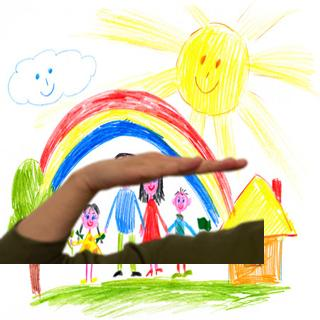WAIT: (79, 149, 253, 190)
